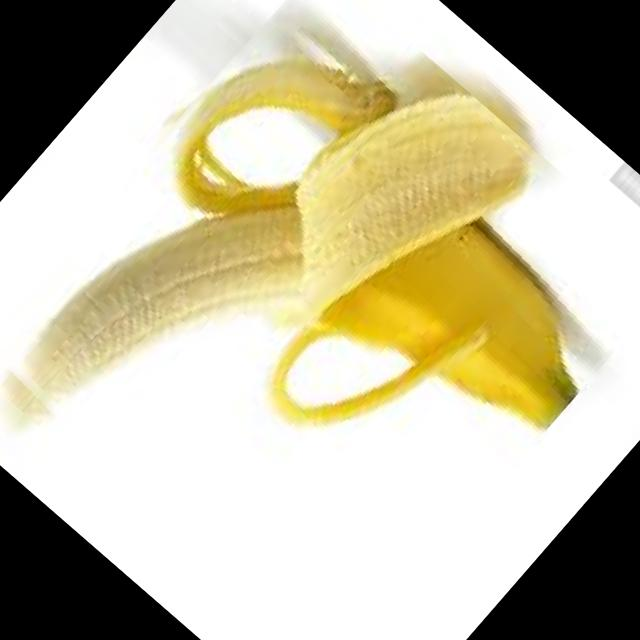Organic: (0, 0, 640, 640), (379, 129, 452, 208)
